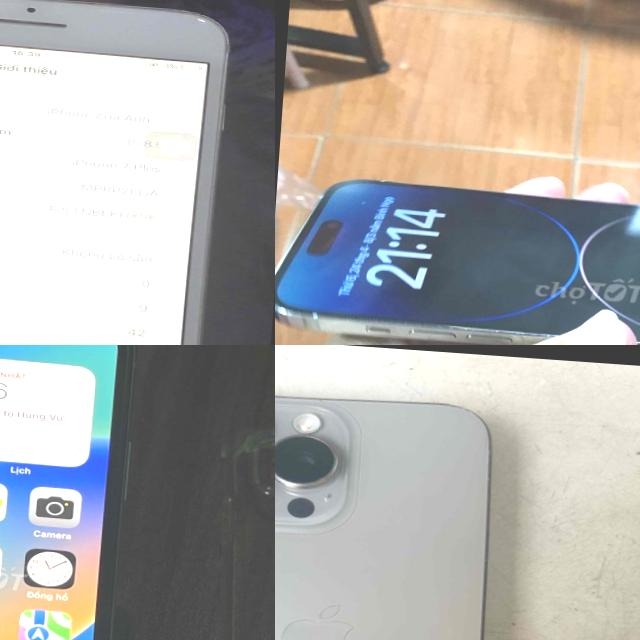gen_14: (275, 162, 640, 345)
gen_15: (275, 372, 527, 640)
gen_7_8: (0, 0, 229, 345)
gen_x_xs: (0, 345, 156, 640)
scratch: (275, 396, 344, 522)
screen_defect: (187, 14, 210, 27)
